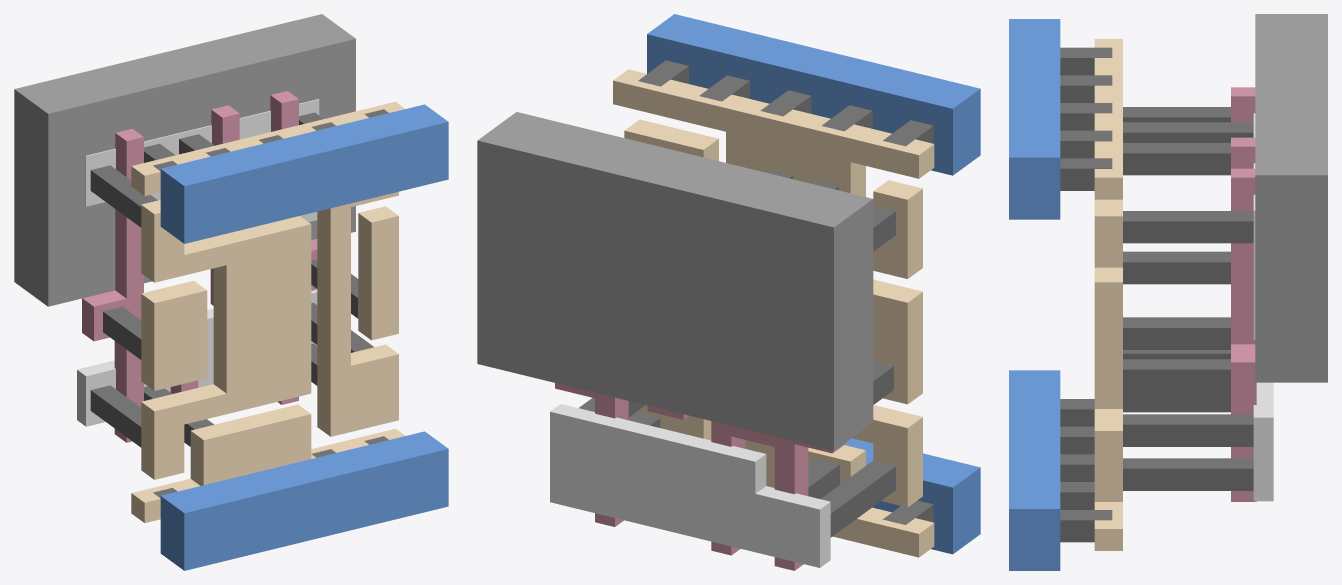
The model's file is sky130_fd_sc_hd__einvp_1.gds.gltf.
3 views of the same model, side by side, from view 1: azimuth 30°, elevation 25°; view 2: azimuth 150°, elevation 25°; view 3: azimuth 270°, elevation 25° (orthographic). The views are drawn at different scales.
Visible parts, largest first — view 1: sky130_fd_sc_hd__einvp_1_li1, sky130_fd_sc_hd__einvp_1_met1, sky130_fd_sc_hd__einvp_1_nwell, sky130_fd_sc_hd__einvp_1_poly, sky130_fd_sc_hd__einvp_1_licon, sky130_fd_sc_hd__einvp_1_diff, sky130_fd_sc_hd__einvp_1_mcon; view 2: sky130_fd_sc_hd__einvp_1_nwell, sky130_fd_sc_hd__einvp_1_li1, sky130_fd_sc_hd__einvp_1_diff, sky130_fd_sc_hd__einvp_1_met1, sky130_fd_sc_hd__einvp_1_licon, sky130_fd_sc_hd__einvp_1_poly, sky130_fd_sc_hd__einvp_1_mcon; view 3: sky130_fd_sc_hd__einvp_1_licon, sky130_fd_sc_hd__einvp_1_nwell, sky130_fd_sc_hd__einvp_1_met1, sky130_fd_sc_hd__einvp_1_li1, sky130_fd_sc_hd__einvp_1_mcon, sky130_fd_sc_hd__einvp_1_poly, sky130_fd_sc_hd__einvp_1_diff.
Part boxes in pixels (x1,y1,x2,y2): sky130_fd_sc_hd__einvp_1_li1: [131, 101, 404, 522]; sky130_fd_sc_hd__einvp_1_met1: [160, 104, 448, 570]; sky130_fd_sc_hd__einvp_1_nwell: [14, 14, 355, 306]; sky130_fd_sc_hd__einvp_1_poly: [82, 91, 317, 442]; sky130_fd_sc_hd__einvp_1_licon: [90, 112, 373, 447]; sky130_fd_sc_hd__einvp_1_diff: [77, 99, 319, 426]; sky130_fd_sc_hd__einvp_1_mcon: [153, 109, 388, 497]; sky130_fd_sc_hd__einvp_1_nwell: [477, 112, 873, 450]; sky130_fd_sc_hd__einvp_1_li1: [613, 69, 934, 557]; sky130_fd_sc_hd__einvp_1_diff: [550, 404, 830, 567]; sky130_fd_sc_hd__einvp_1_met1: [647, 14, 980, 554]; sky130_fd_sc_hd__einvp_1_licon: [579, 169, 895, 537]; sky130_fd_sc_hd__einvp_1_poly: [555, 383, 846, 570]; sky130_fd_sc_hd__einvp_1_mcon: [638, 60, 933, 524]; sky130_fd_sc_hd__einvp_1_licon: [1123, 107, 1253, 490]; sky130_fd_sc_hd__einvp_1_nwell: [1255, 14, 1327, 382]; sky130_fd_sc_hd__einvp_1_met1: [1009, 19, 1060, 570]; sky130_fd_sc_hd__einvp_1_li1: [1094, 39, 1122, 550]; sky130_fd_sc_hd__einvp_1_mcon: [1060, 47, 1112, 542]; sky130_fd_sc_hd__einvp_1_poly: [1231, 87, 1256, 501]; sky130_fd_sc_hd__einvp_1_diff: [1253, 113, 1273, 501].
Size of the model in its own units: 2.68 by 3.2 by 2.24.
